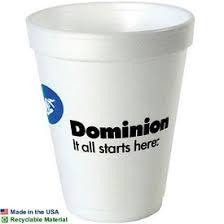Plastic cup: (24, 9, 213, 224)
